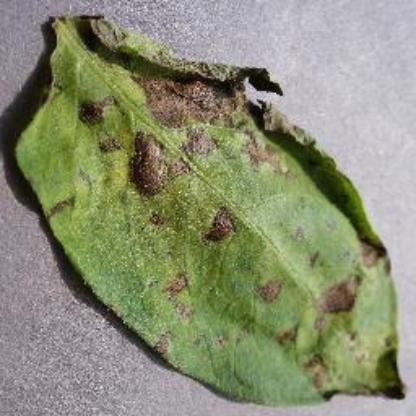Early-Blight: (8, 11, 414, 403)
